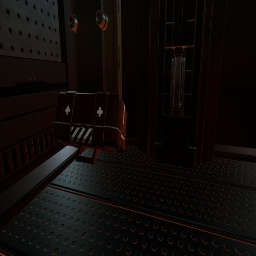FirstAidBox ,: (52, 92, 127, 165)
